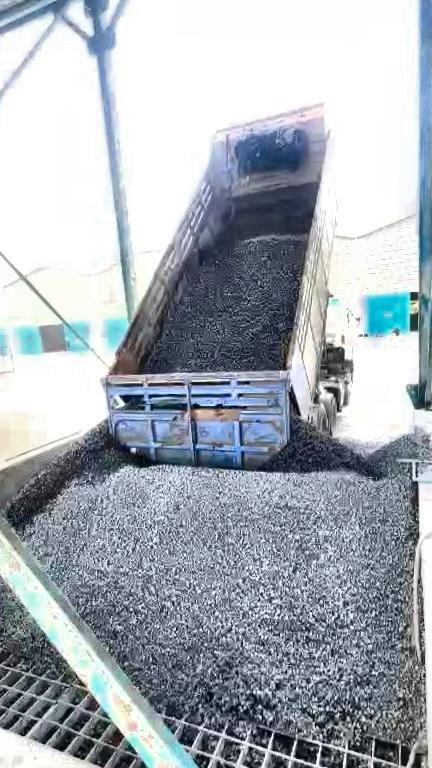gravel: (1, 395, 432, 742), (140, 235, 305, 372), (0, 541, 62, 673)
sand: (0, 403, 59, 476)
